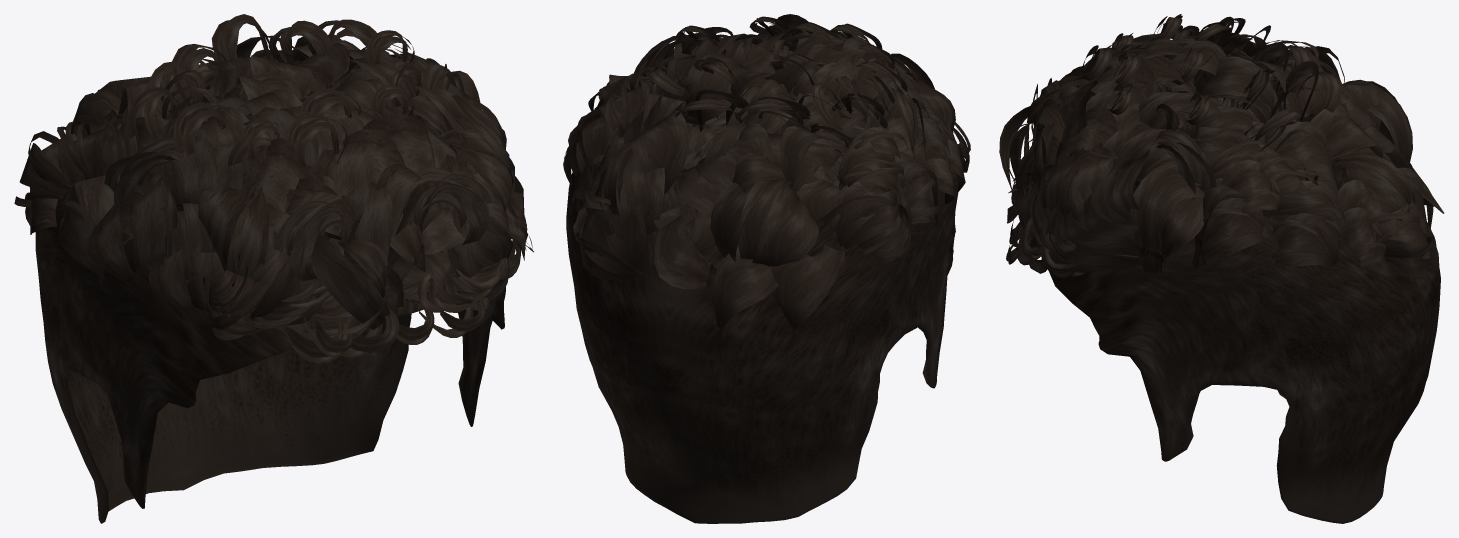
File: Triangle_Curly_TaperedFade.glb
3 renders of one model, left to right at view 1: azimuth 30°, elevation 25°; view 2: azimuth 150°, elevation 25°; view 3: azimuth 270°, elevation 25°, orthographic. The views are drawn at different scales.
Parts seen in each view (by area): view 1: TAPERED FADE, SCALP_NEW.006; view 2: TAPERED FADE, SCALP_NEW.006; view 3: TAPERED FADE, SCALP_NEW.006.
Boxes of the visible parts, box(x1,y1,x2,y2) form: TAPERED FADE: box(14, 14, 533, 363); SCALP_NEW.006: box(35, 96, 505, 523); TAPERED FADE: box(563, 14, 970, 329); SCALP_NEW.006: box(566, 98, 958, 523); TAPERED FADE: box(999, 14, 1444, 279); SCALP_NEW.006: box(1041, 97, 1440, 523).
Bounding box in the file's own units: 0.2097 × 0.2401 × 0.2188.
2 materials, 2 textured.
